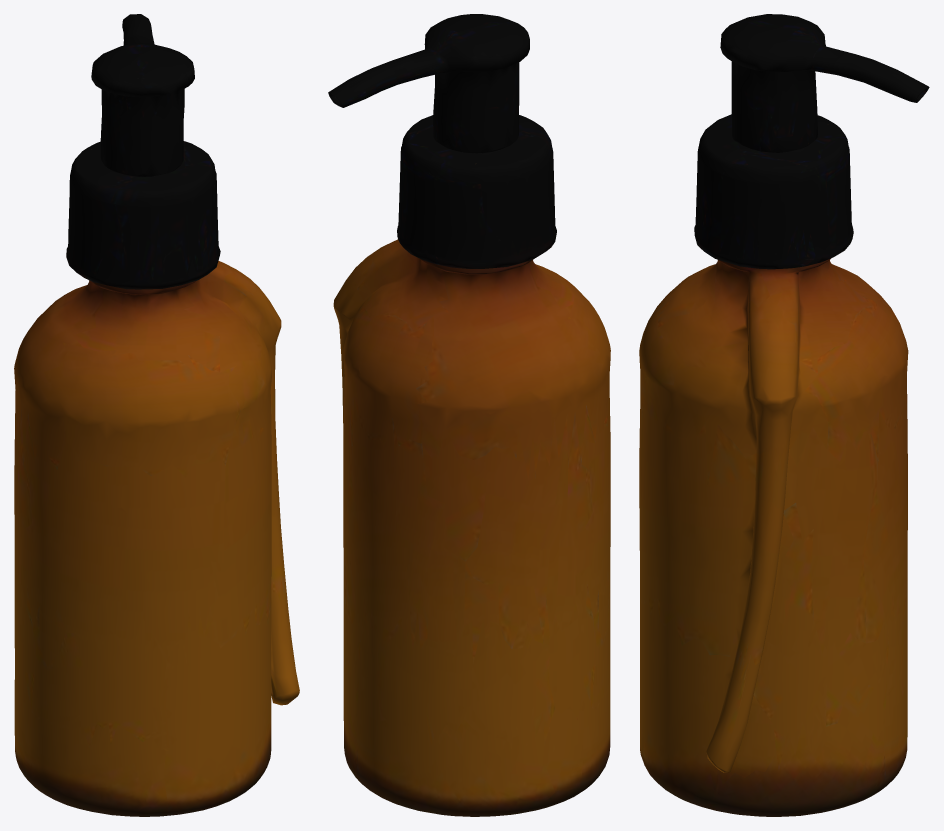
Rendered from bottle-v1.glb.
3 renders of one model, left to right at view 1: azimuth 30°, elevation 25°; view 2: azimuth 150°, elevation 25°; view 3: azimuth 270°, elevation 25°, orthographic. The views are drawn at different scales.
Visible parts, largest first — view 1: prop__bottle; view 2: prop__bottle; view 3: prop__bottle.
Boxes of the visible parts, x1,y1,x2,y2 form: prop__bottle: (14, 14, 299, 816); prop__bottle: (328, 14, 610, 816); prop__bottle: (639, 14, 929, 816).
Size of the model in its own units: 0.0872 by 0.24 by 0.0854.
1 material, 1 textured.
